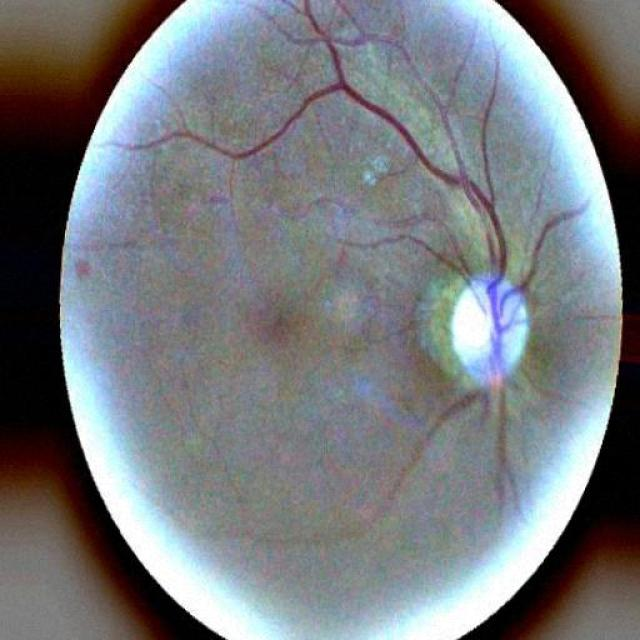Macula: (237, 289, 311, 366)
Nerves: (108, 5, 524, 559)
Optic Disk: (406, 255, 550, 402)
